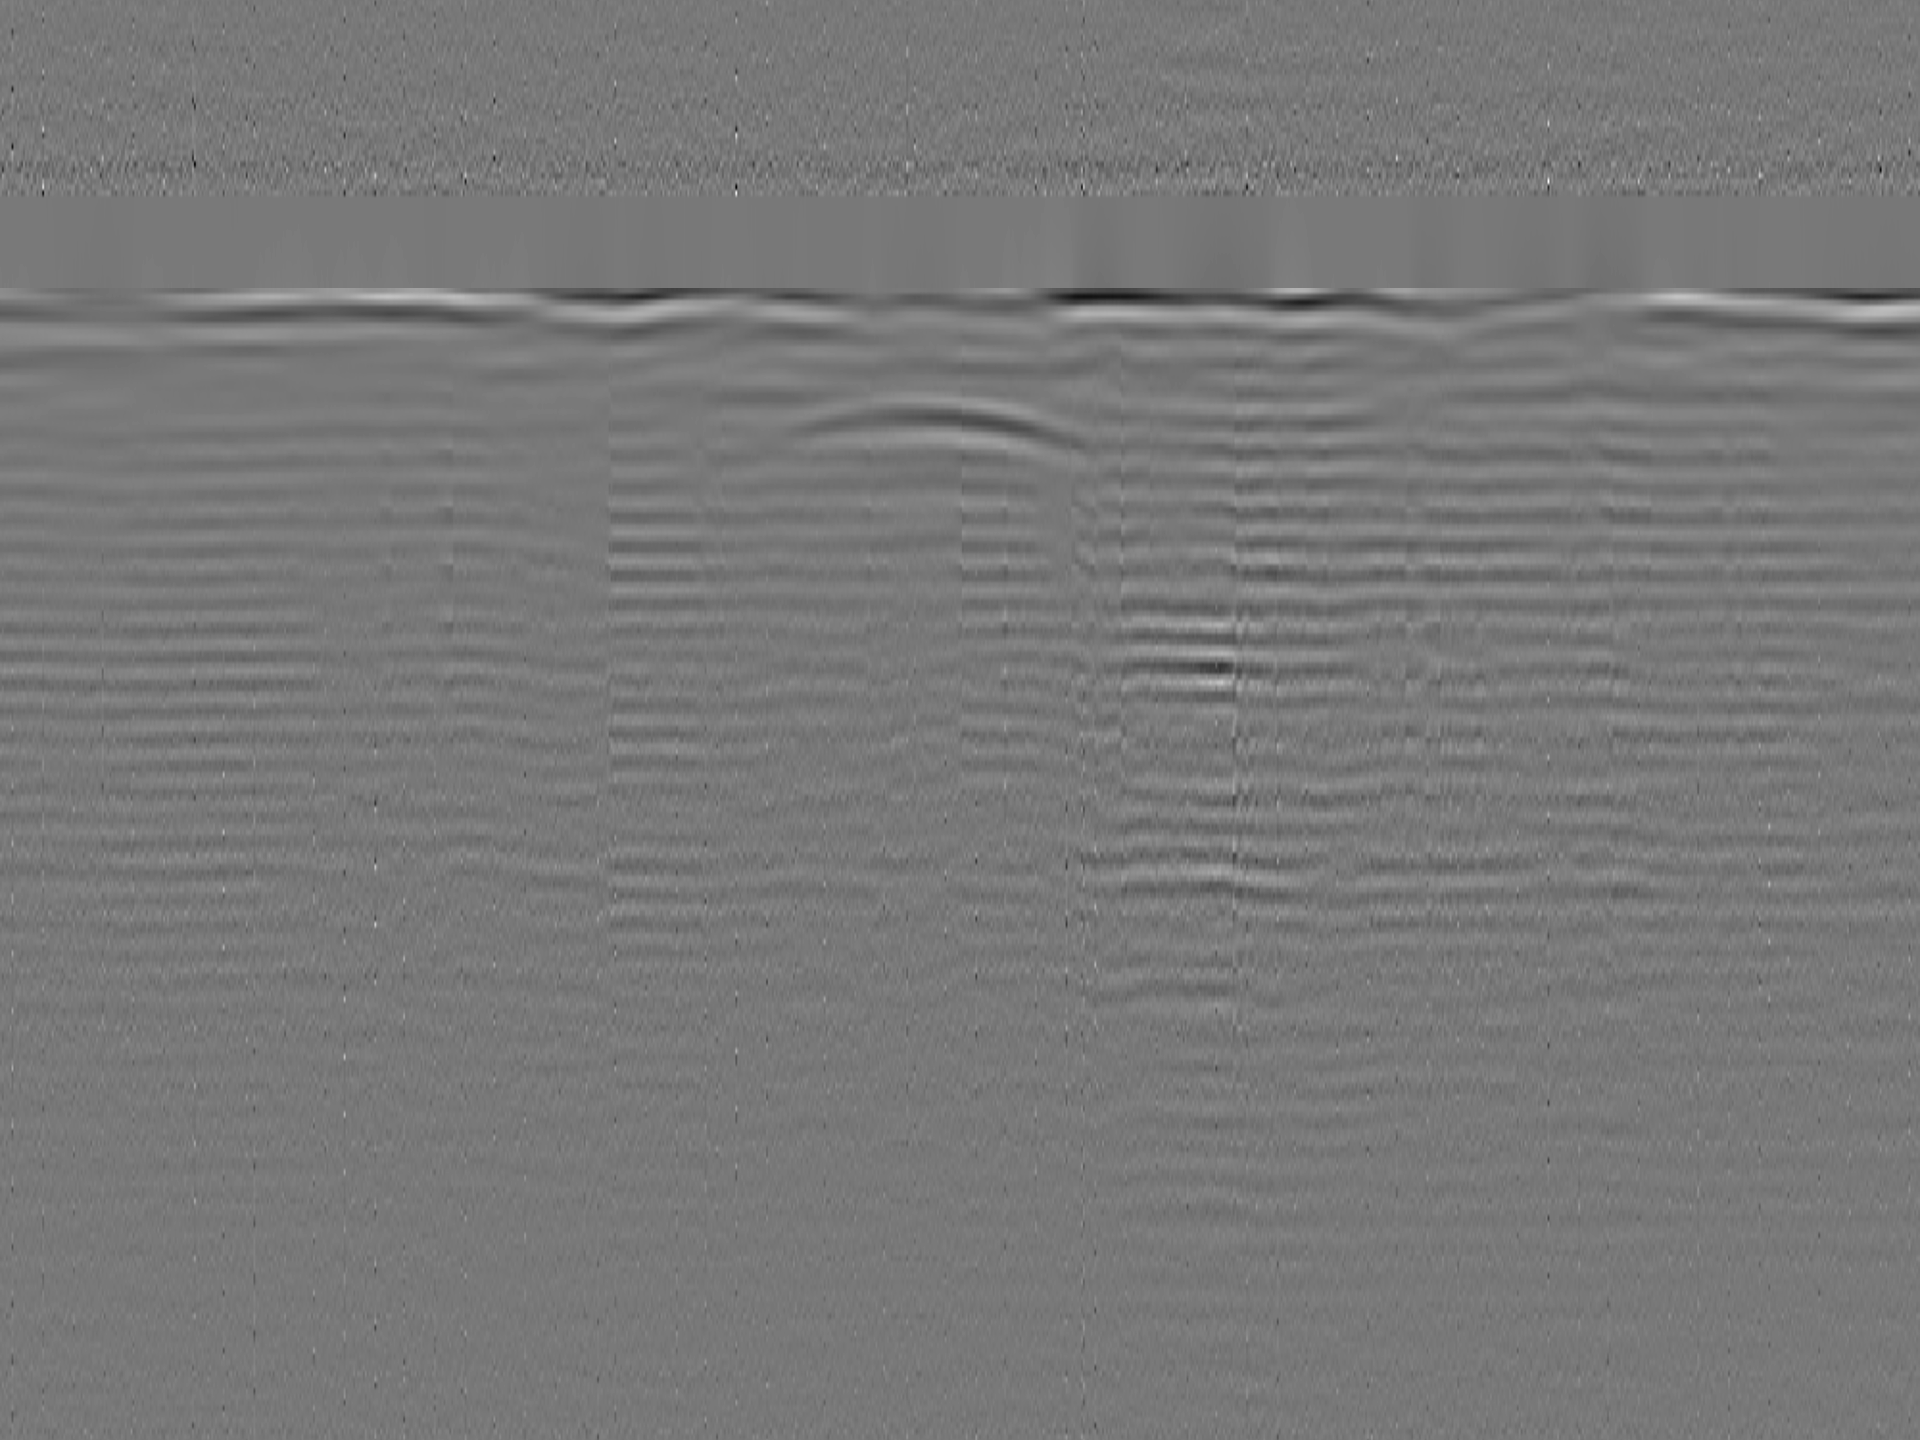Tunnel: (771, 398, 1104, 466)
